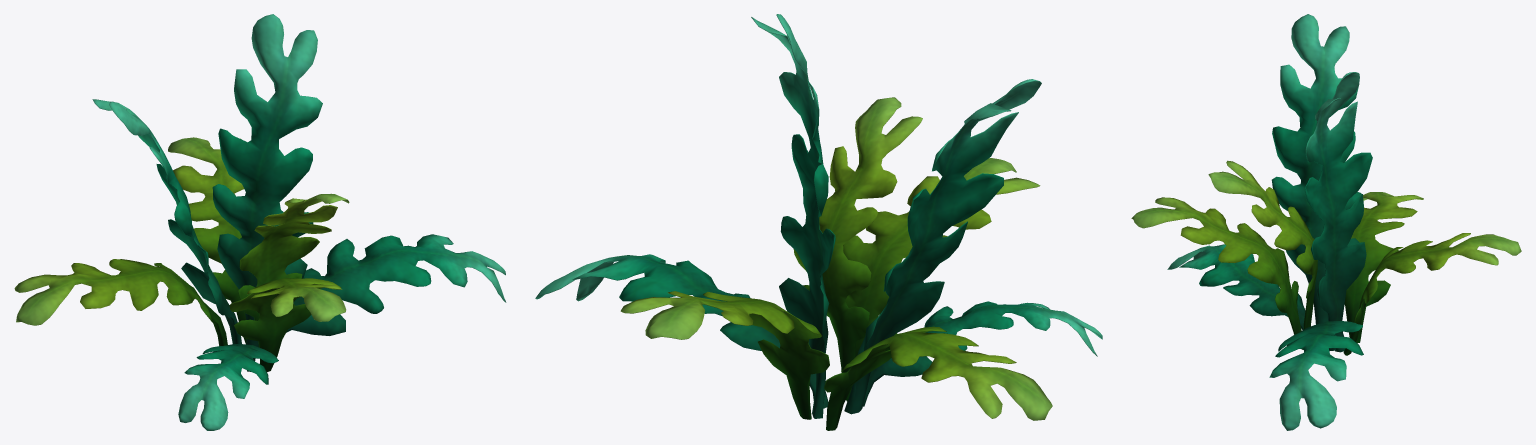
File: Cartoon Seaweed_10_4.FBX
3 views of the same model, side by side, from view 1: azimuth 30°, elevation 25°; view 2: azimuth 150°, elevation 25°; view 3: azimuth 270°, elevation 25° (orthographic). The views are drawn at different scales.
Visible parts, largest first — view 1: Cartoon Seaweed 10.4; view 2: Cartoon Seaweed 10.4; view 3: Cartoon Seaweed 10.4.
Part boxes in pixels (x1,y1,x2,y2): Cartoon Seaweed 10.4: (14, 14, 506, 430); Cartoon Seaweed 10.4: (535, 14, 1102, 430); Cartoon Seaweed 10.4: (1131, 14, 1521, 430).
Bounding box in the file's own units: 31.66 × 22.01 × 26.77.
